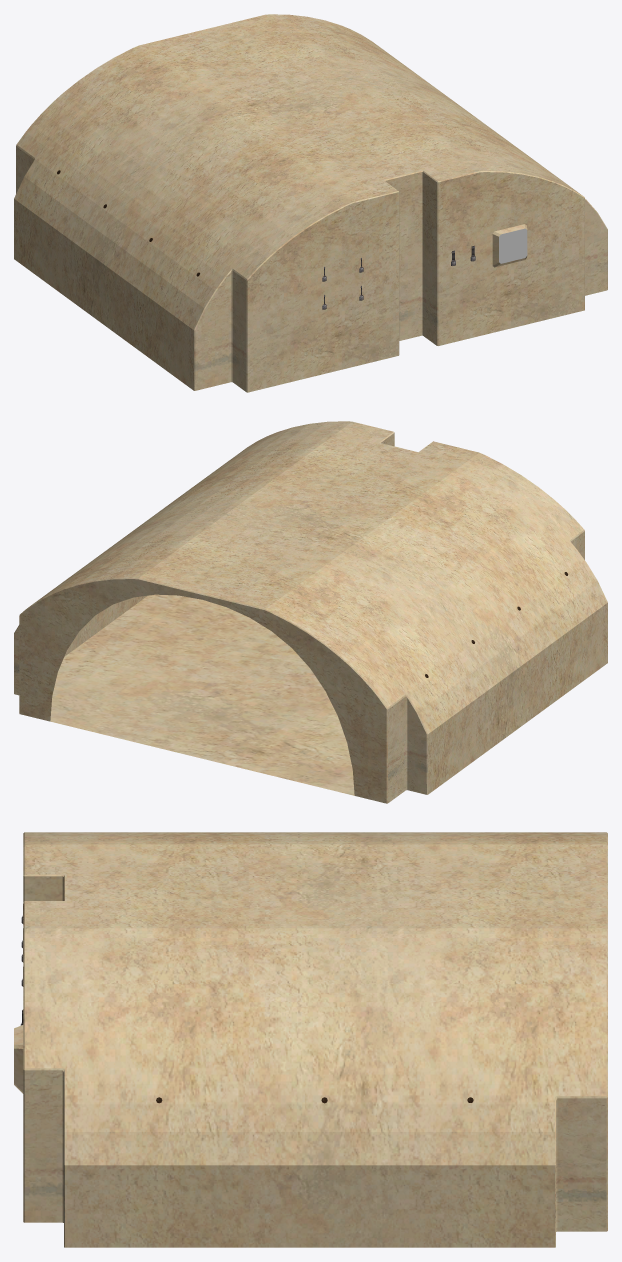
Rendered from thm_tato_cantina_r7_alcove4_mesh_r7.fbx.
The picture shows the model from 3 angles, top to bottom: view 1: azimuth 30°, elevation 25°; view 2: azimuth 150°, elevation 25°; view 3: azimuth 270°, elevation 25°; orthographic projection. The views are drawn at different scales.
Visible parts, largest first — view 1: mesh_node; view 2: mesh_node; view 3: mesh_node.
Boxes of the visible parts, x1,y1,x2,y2 form: mesh_node: [14, 14, 607, 392]; mesh_node: [14, 421, 607, 803]; mesh_node: [14, 832, 607, 1247].
Size of the model in its own units: 10.94 by 4.15 by 9.98.
